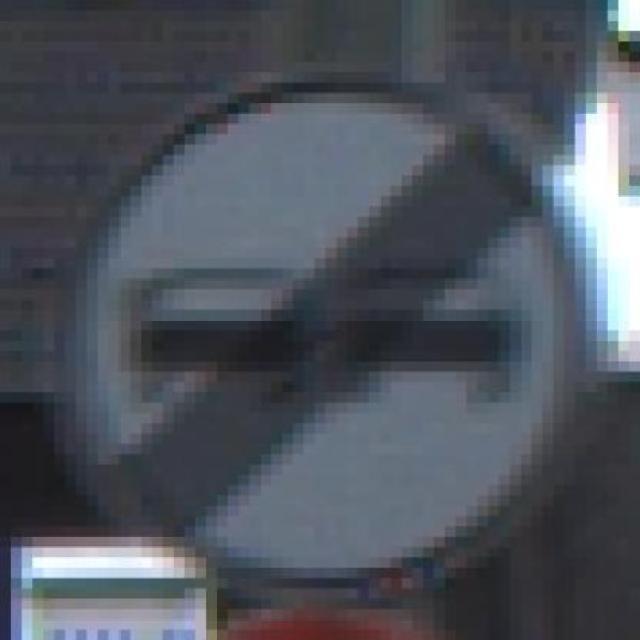No_Over_Taking: (54, 41, 629, 599)
